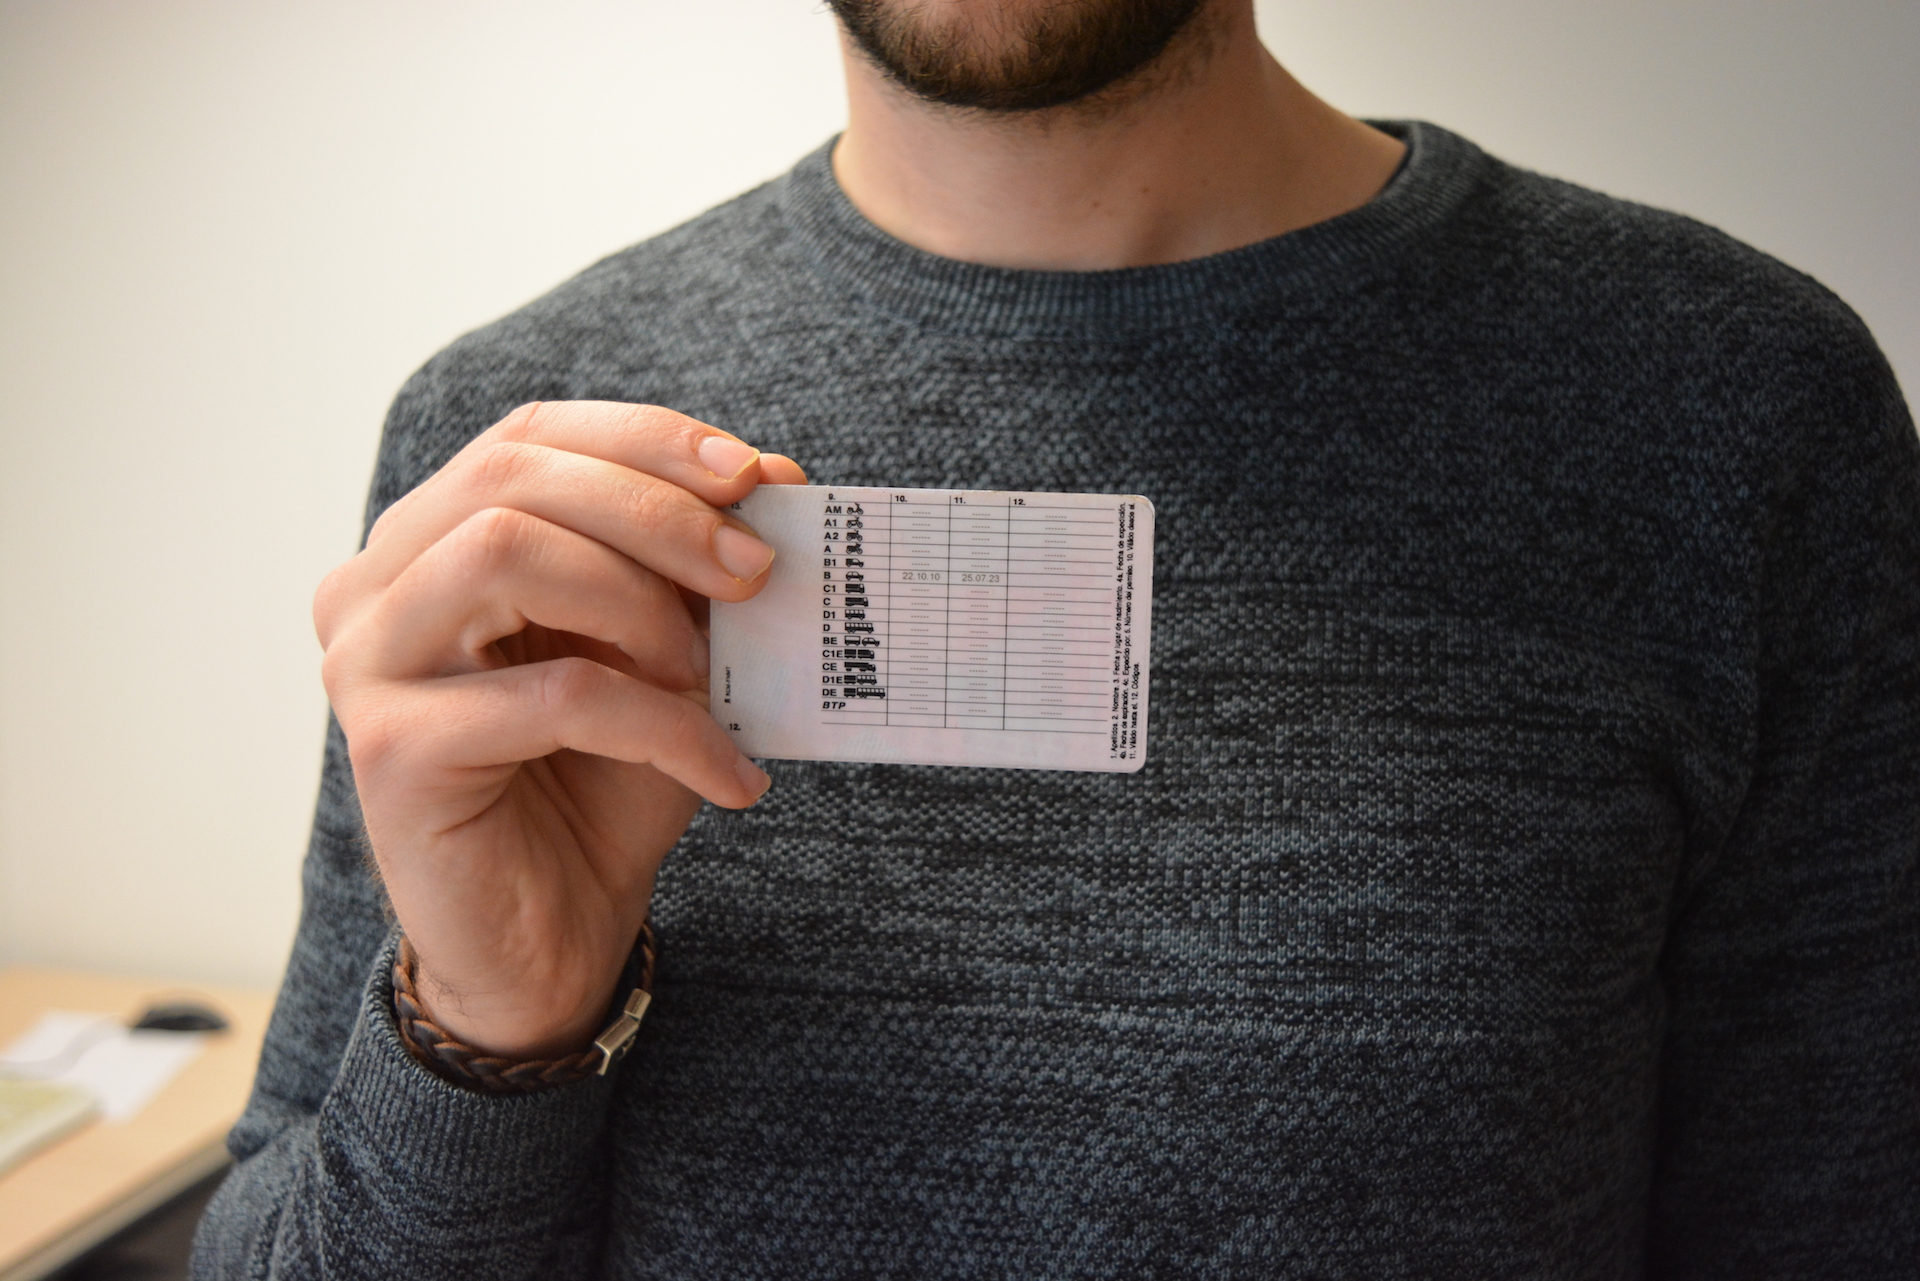tarjeta: (703, 478, 1159, 776)
